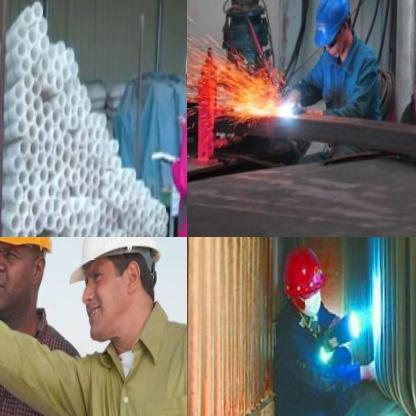helmet: (68, 237, 174, 367), (0, 237, 63, 328), (282, 244, 327, 320), (313, 0, 357, 67)
